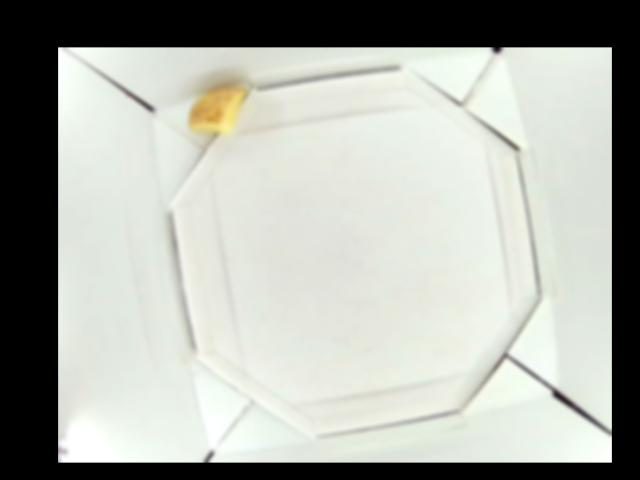Potato: (187, 87, 248, 131)
